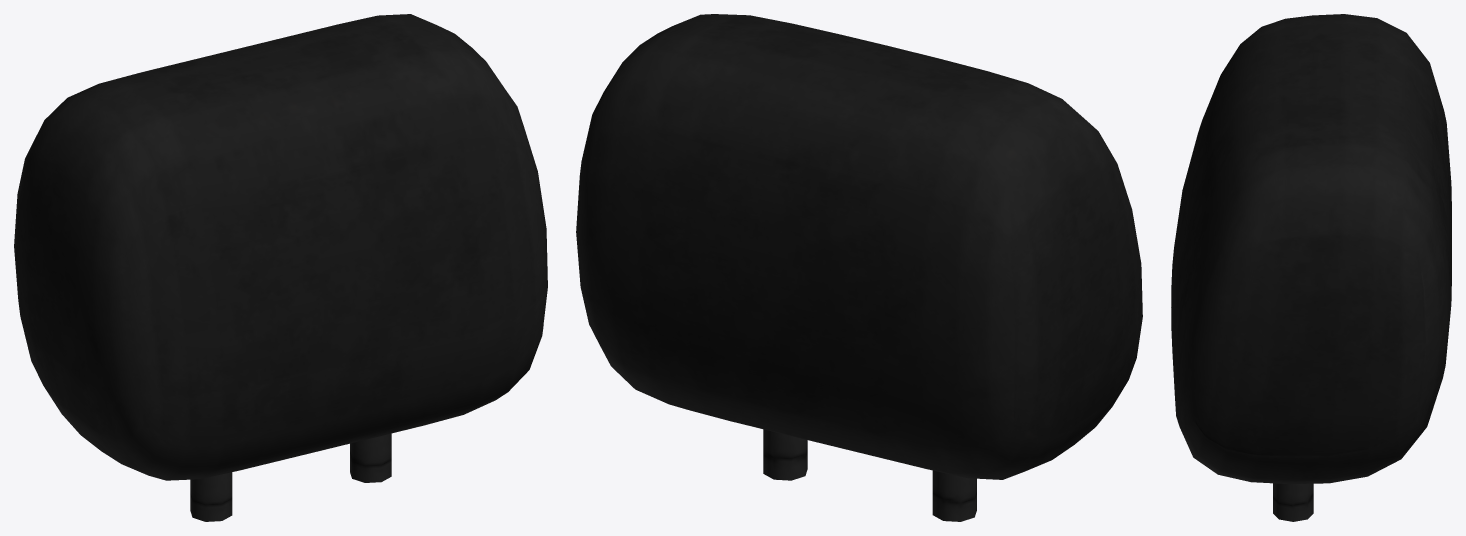
The model's file is korsi 1.fbx.
3 renders of one model, left to right at view 1: azimuth 30°, elevation 25°; view 2: azimuth 150°, elevation 25°; view 3: azimuth 270°, elevation 25°, orthographic. The views are drawn at different scales.
Visible parts, largest first — view 1: Cube.002, Circle.006; view 2: Cube.002, Circle.006; view 3: Cube.002, Circle.006.
Part boxes in pixels (box(x1,y1,x2,y2)): Cube.002: box(14, 14, 547, 480); Circle.006: box(190, 433, 391, 521); Cube.002: box(576, 14, 1142, 479); Circle.006: box(763, 429, 976, 521); Cube.002: box(1171, 14, 1451, 483); Circle.006: box(1273, 483, 1313, 521).
Bounding box in the file's own units: 25.92 × 23.02 × 14.85.
Materials: 1 (1 with a texture image).
